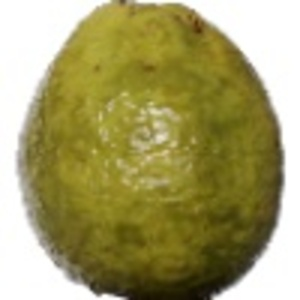goiaba: (10, 1, 288, 297)
